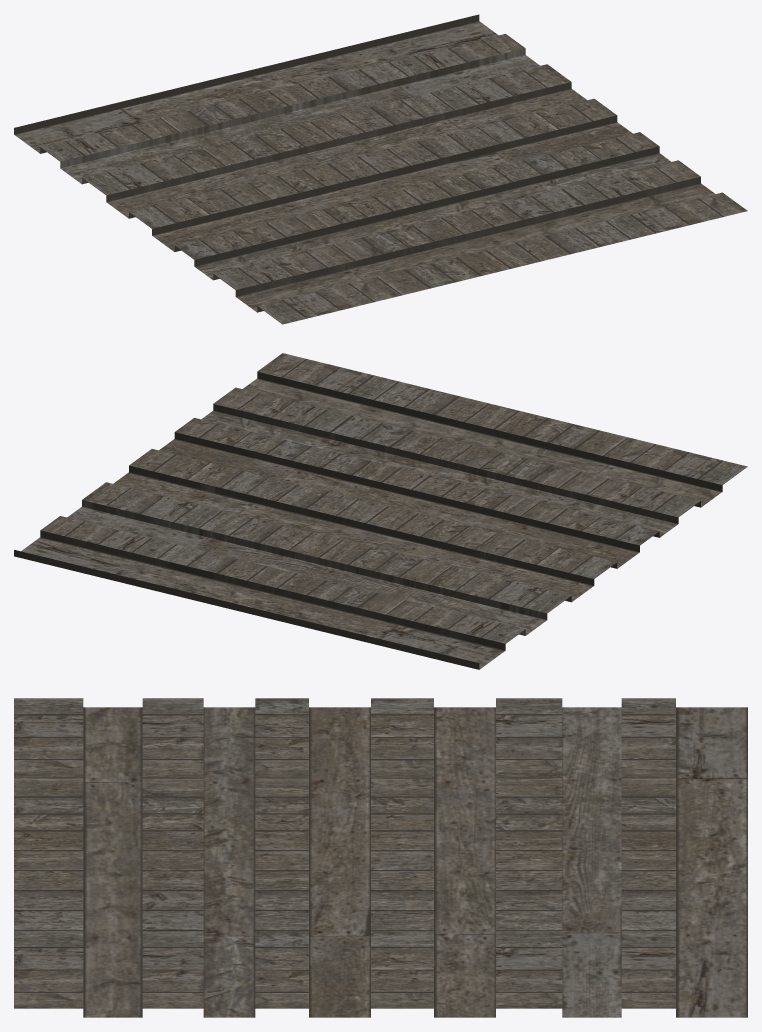
Rendered from Roof2.fbx.
3 views of the same model, one above another, from view 1: azimuth 30°, elevation 25°; view 2: azimuth 150°, elevation 25°; view 3: azimuth 270°, elevation 25° (orthographic). The views are drawn at different scales.
Parts seen in each view (by area): view 1: roof; view 2: roof; view 3: roof.
Boxes of the visible parts, left/top/right/bottom form: roof: left=14, top=14, right=747, bottom=324; roof: left=14, top=353, right=747, bottom=669; roof: left=14, top=698, right=747, bottom=1017.
Size of the model in its own units: 600 by 8.24 by 600.
